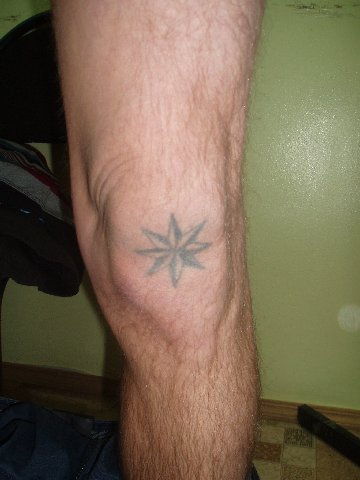tatu4_zvezda: (135, 210, 215, 292)
